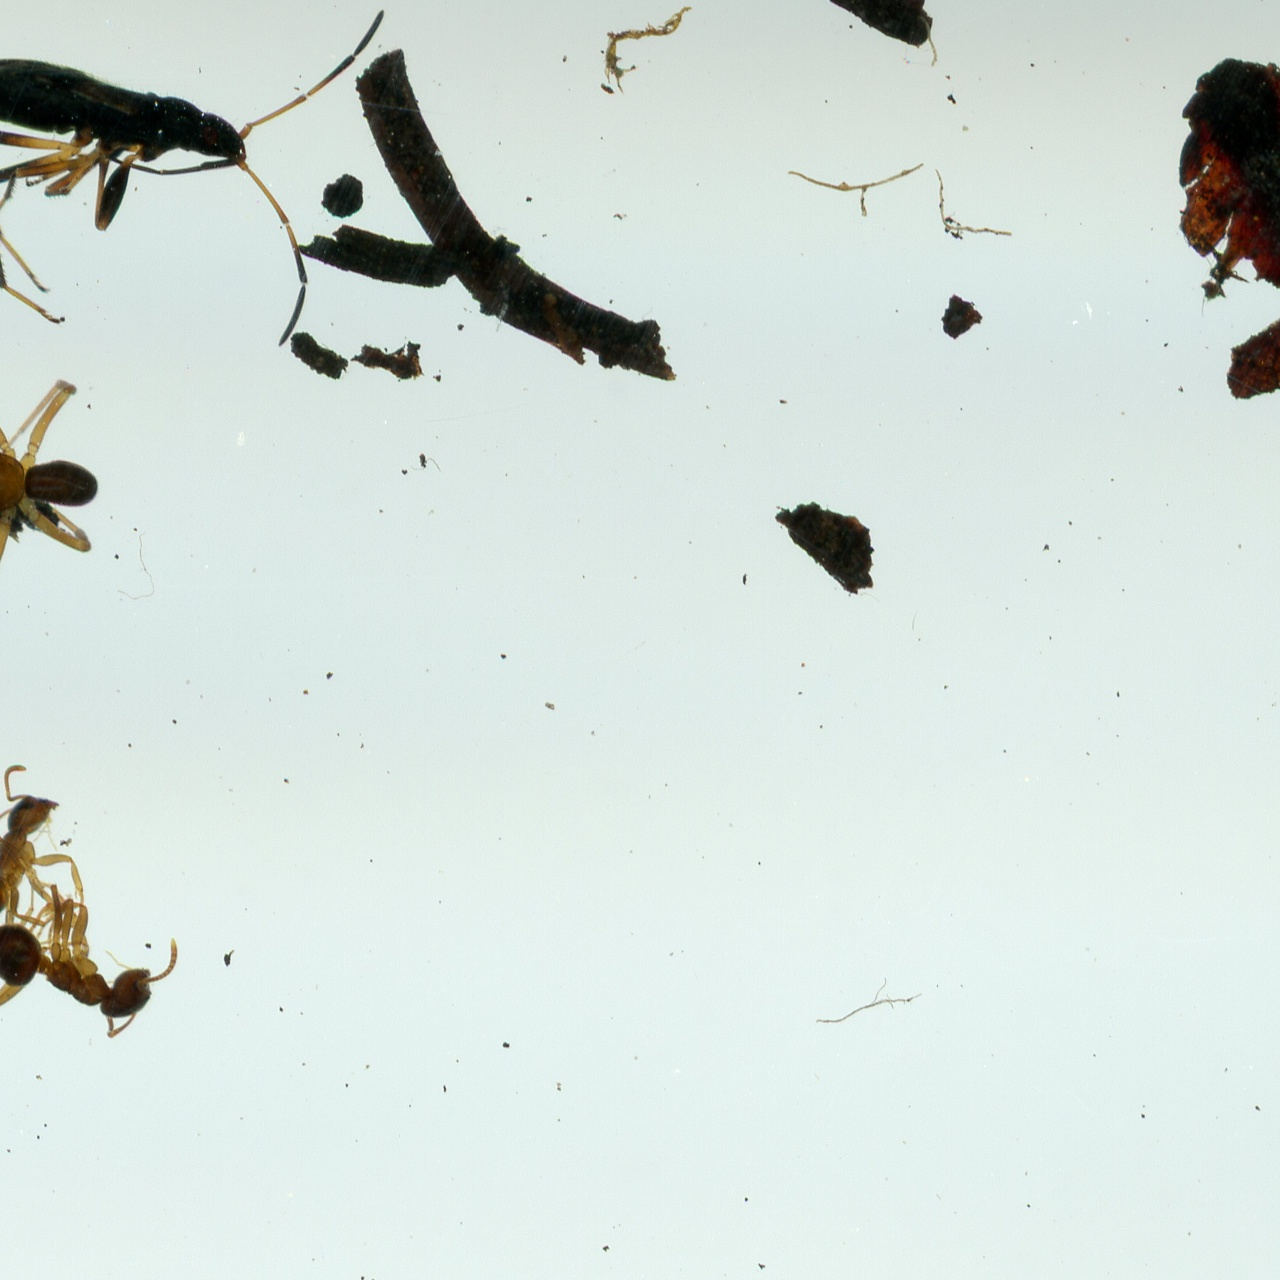arthropod: (0, 2, 389, 342), (0, 896, 183, 1037), (0, 376, 98, 572), (0, 761, 74, 928)
